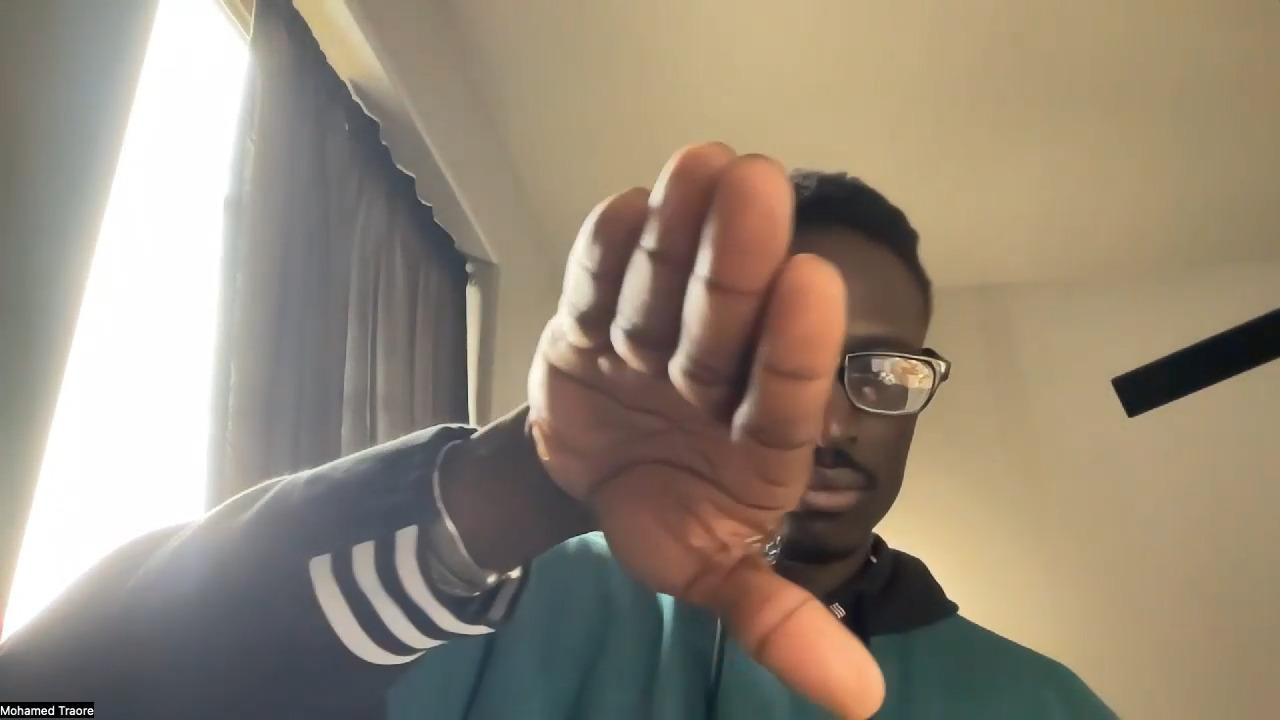Paper: (533, 138, 890, 720)
